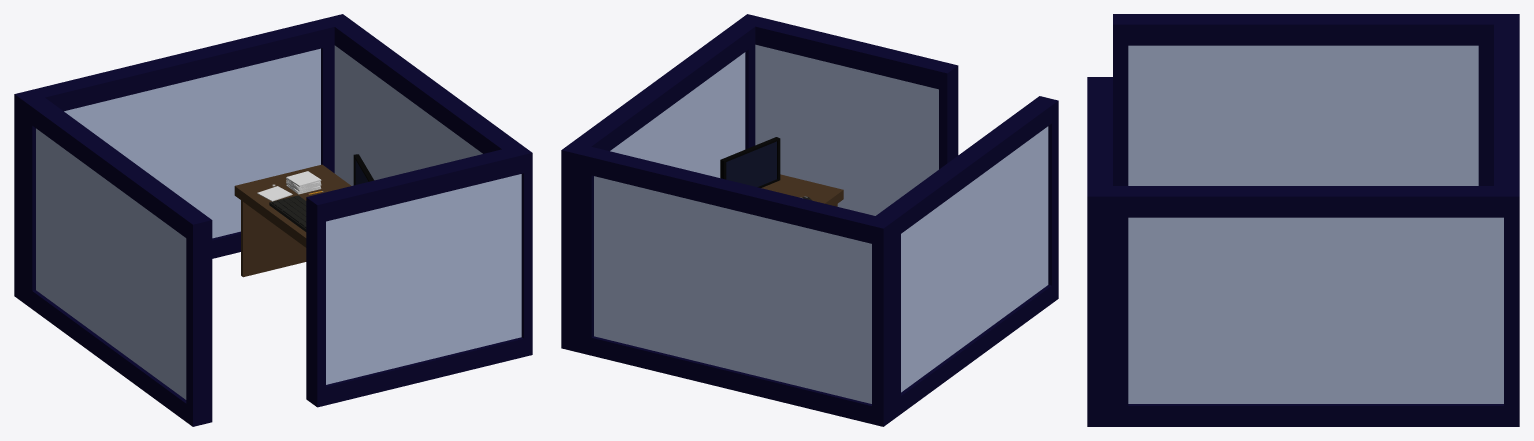
The model's file is officetablewithwalls.fbx.
3 renders of one model, left to right at view 1: azimuth 30°, elevation 25°; view 2: azimuth 150°, elevation 25°; view 3: azimuth 270°, elevation 25°, orthographic. The views are drawn at different scales.
Visible parts, largest first — view 1: Cube.005, Cube.006, Cube.007, Cube.004, Cube, Cube.002; view 2: Cube.007, Cube.006, Cube.005, Cube.004, Cube.001, Cube; view 3: Cube.004, Cube.006, Cube.005, Cube.007.
Part boxes in pixels (box(x1,y1,x2,y2)): Cube.005: box(306, 144, 532, 407); Cube.006: box(25, 97, 212, 426); Cube.007: box(14, 18, 334, 304); Cube.004: box(324, 14, 520, 185); Cube: box(234, 164, 350, 277); Cube.002: box(269, 195, 306, 231); Cube.007: box(580, 146, 894, 426); Cube.006: box(876, 96, 1058, 418); Cube.005: box(737, 14, 958, 215); Cube.004: box(561, 22, 755, 352); Cube.001: box(720, 137, 780, 187); Cube: box(761, 174, 843, 206); Cube.004: box(1113, 186, 1519, 426); Cube.006: box(1113, 14, 1493, 185); Cube.005: box(1087, 77, 1112, 426); Cube.007: box(1494, 14, 1519, 185).
Size of the model in its own units: 340 by 200 by 340.
